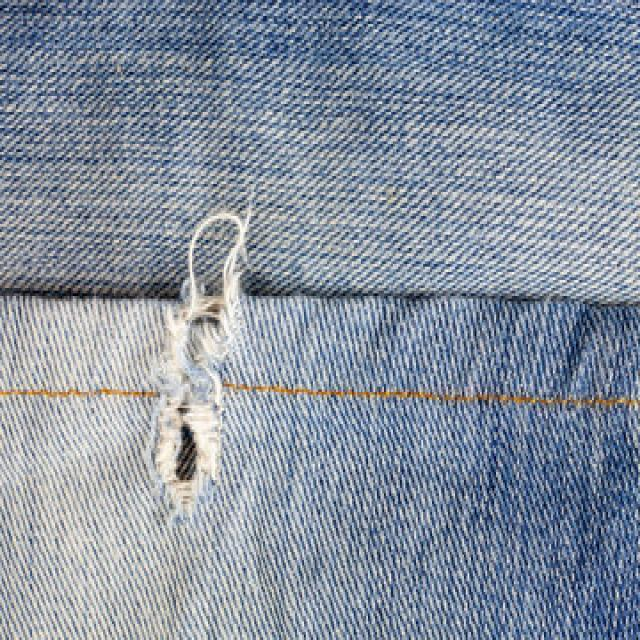Hole: (152, 290, 240, 518)
Line: (5, 275, 640, 325), (224, 384, 640, 408), (0, 388, 158, 400)
